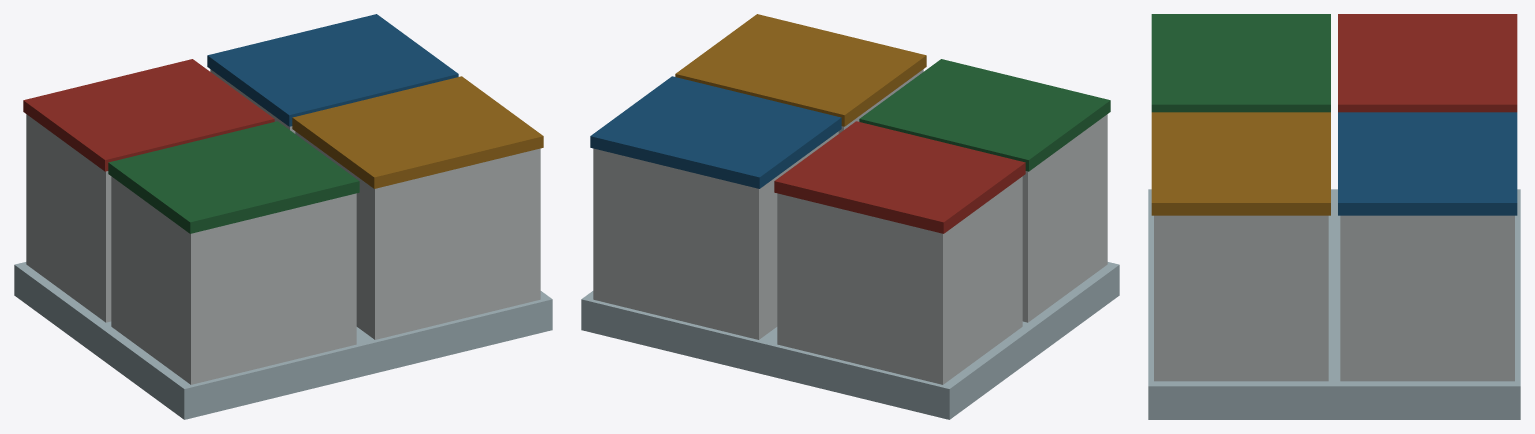
File: crate_pallet.glb
The picture shows the model from 3 angles, left to right: view 1: azimuth 30°, elevation 25°; view 2: azimuth 150°, elevation 25°; view 3: azimuth 270°, elevation 25°; orthographic projection. The views are drawn at different scales.
Visible parts, largest first — view 1: crate_pallet; view 2: crate_pallet; view 3: crate_pallet.
Boxes of the visible parts, x1,y1,x2,y2 form: crate_pallet: [14, 14, 552, 419]; crate_pallet: [581, 14, 1119, 419]; crate_pallet: [1148, 14, 1520, 419].
Bounding box in the file's own units: 2 × 1.01 × 1.6.
